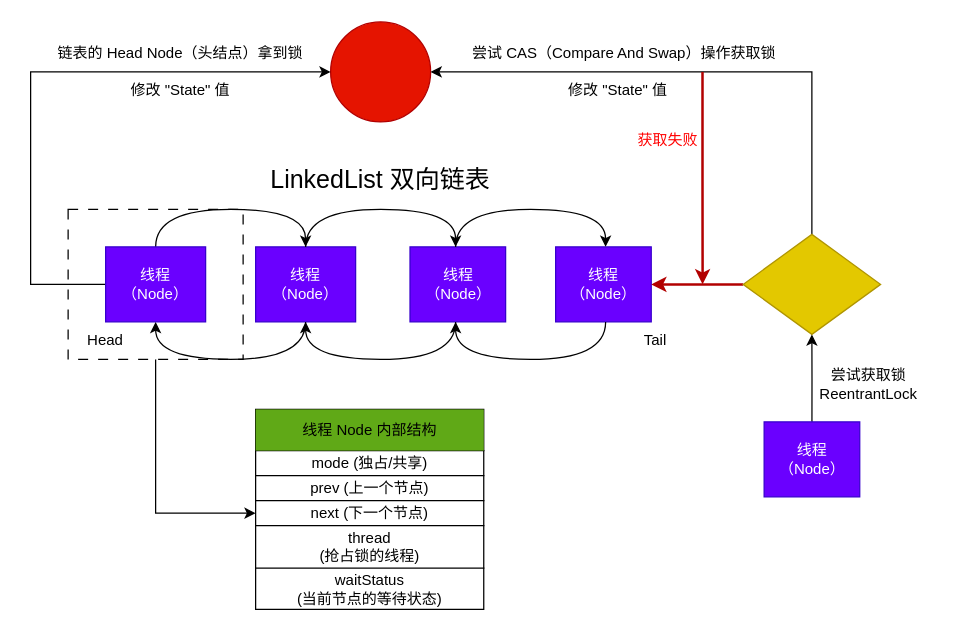
This 953x631 diagram has some shape labels left out. Here are the shapes that lost their labels. From the top down, the centre of each, then its label:
At pixel 380 71: "State （volatile）".
At pixel 811 283: "Fair/Nonfair 是/否公平锁".
